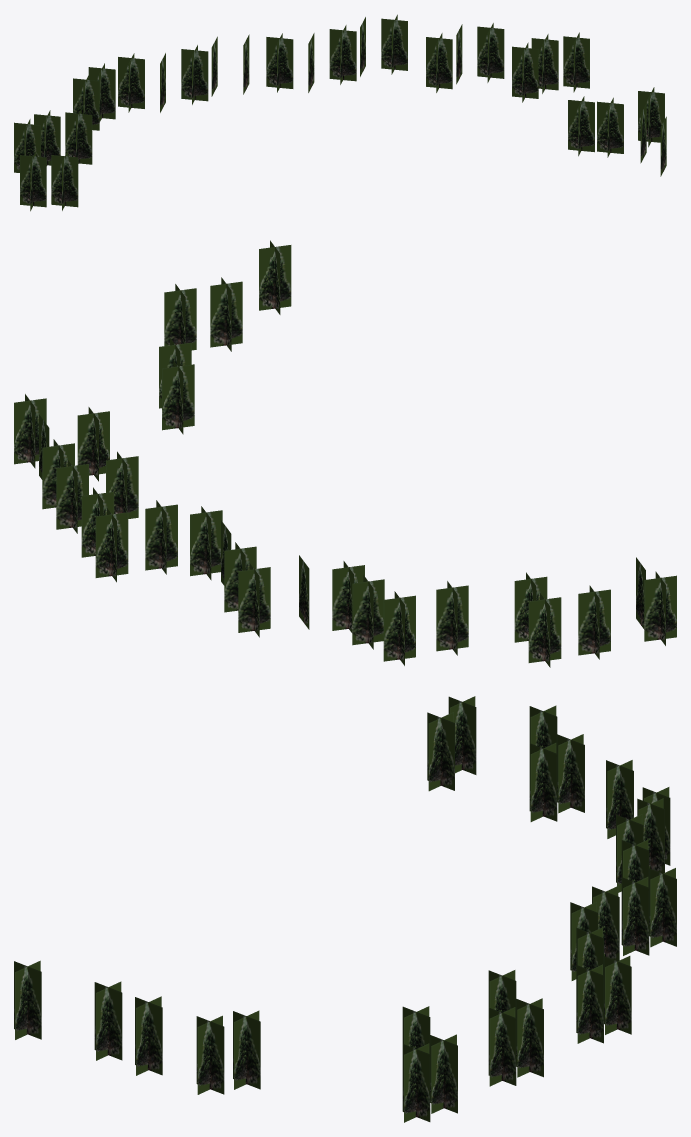
Rendered from RM_PLAYSURFACE_FINAL_INST_PINE_LOD1_174.fbx.
3 renders of one model, top to bottom at view 1: azimuth 30°, elevation 25°; view 2: azimuth 150°, elevation 25°; view 3: azimuth 270°, elevation 25°, orthographic. The views are drawn at different scales.
Parts seen in each view (by area): view 1: RM_PLAYSURFACE_FINAL_INST_PINE_LOD1_174; view 2: RM_PLAYSURFACE_FINAL_INST_PINE_LOD1_174; view 3: RM_PLAYSURFACE_FINAL_INST_PINE_LOD1_174.
Boxes of the visible parts, <box> form: RM_PLAYSURFACE_FINAL_INST_PINE_LOD1_174: <box>14,14,666,211</box>; RM_PLAYSURFACE_FINAL_INST_PINE_LOD1_174: <box>14,240,676,667</box>; RM_PLAYSURFACE_FINAL_INST_PINE_LOD1_174: <box>14,696,676,1122</box>.
Size of the model in its own units: 615482 by 94354 by 475894.
Materials: 1 (1 with a texture image).
